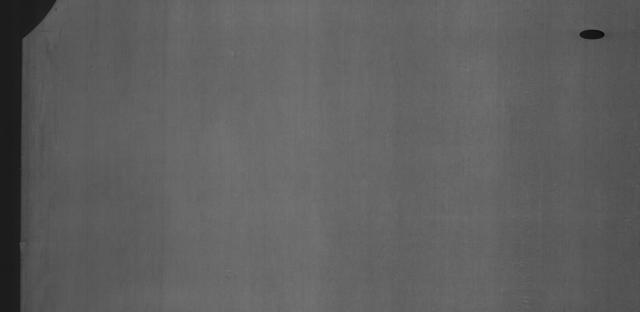crescent_gap: (20, 0, 64, 44)
punching_hole: (574, 24, 608, 45)
